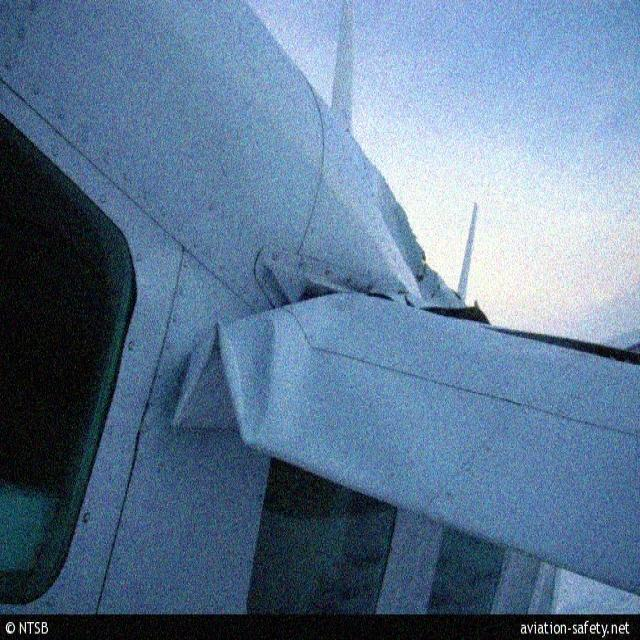dent: (166, 308, 279, 454)
